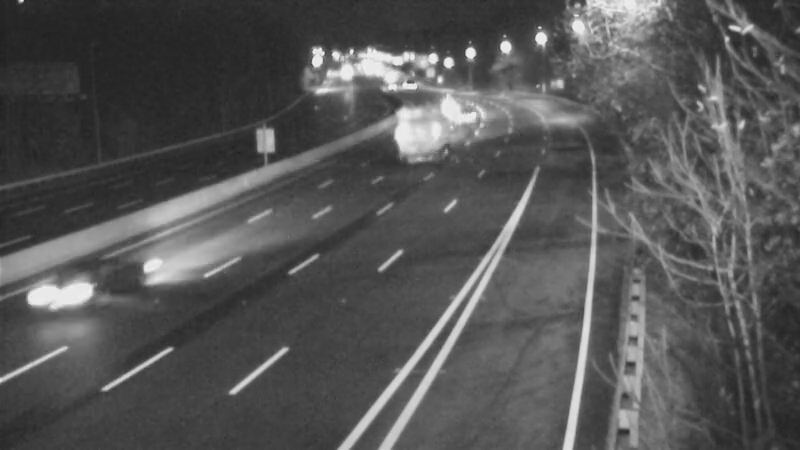vehicle: (21, 256, 101, 336), (380, 60, 430, 110), (369, 61, 419, 111), (412, 81, 462, 131), (449, 84, 499, 134), (391, 108, 441, 158)
